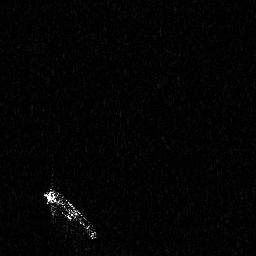ship: (44, 171, 97, 253)
